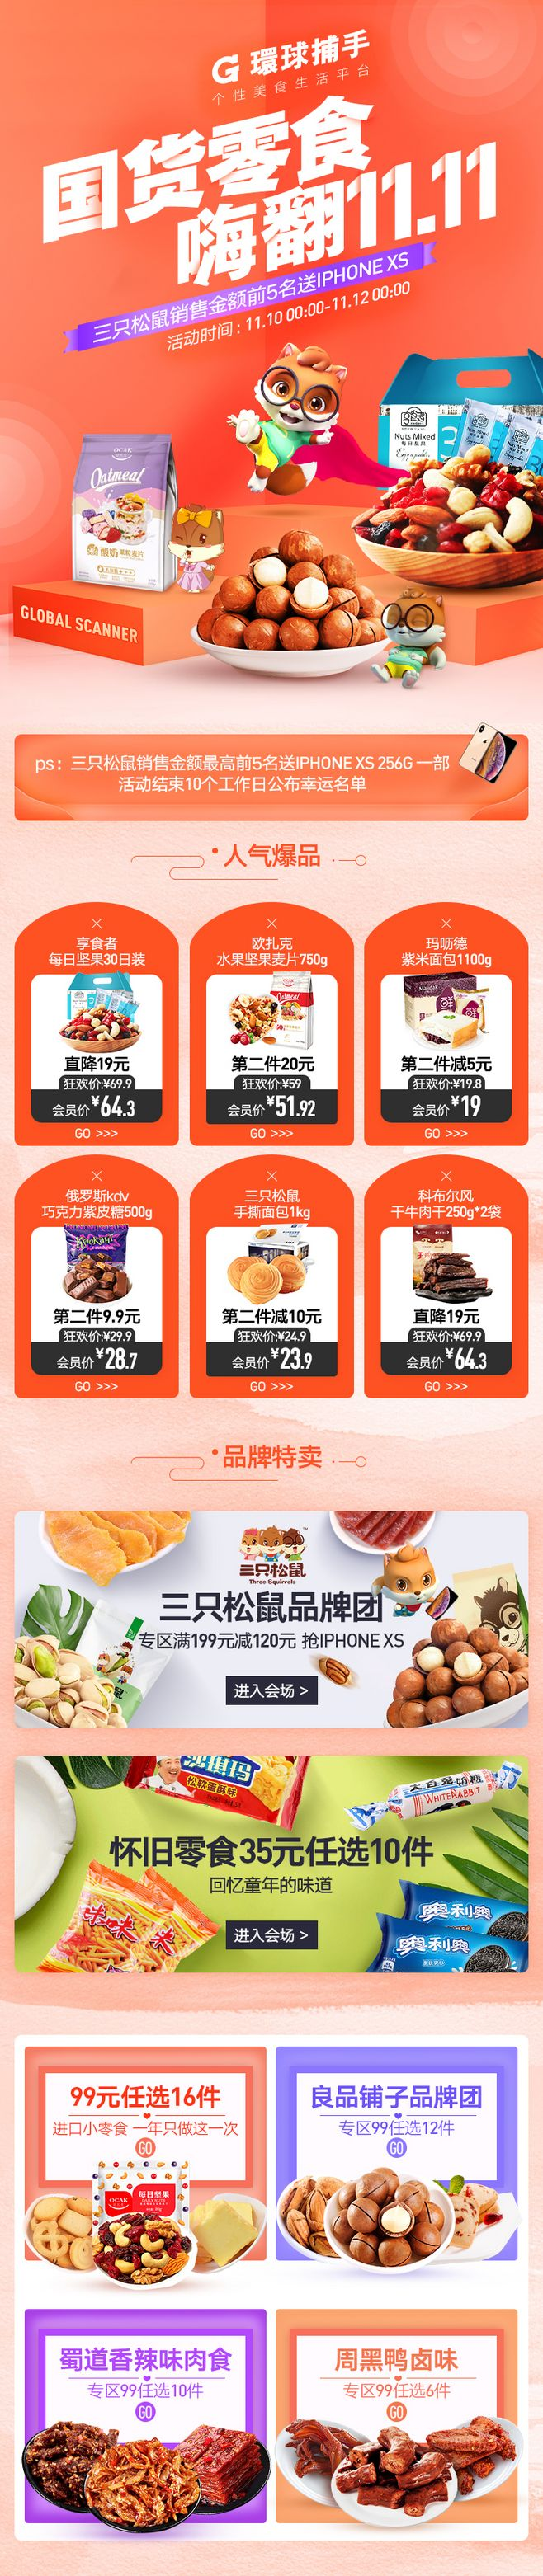floors: (2, 835, 543, 1403), (2, 1431, 543, 1981), (2, 2027, 543, 2555)
toutu: (2, 2, 543, 825)
